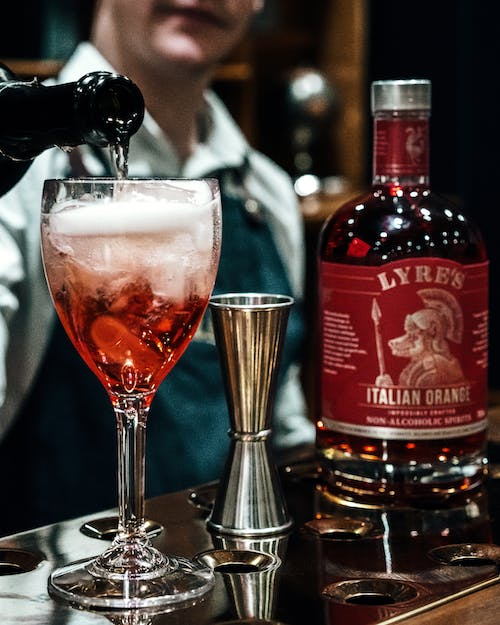alcohol: (38, 175, 224, 608), (316, 79, 490, 509), (0, 59, 147, 199)
